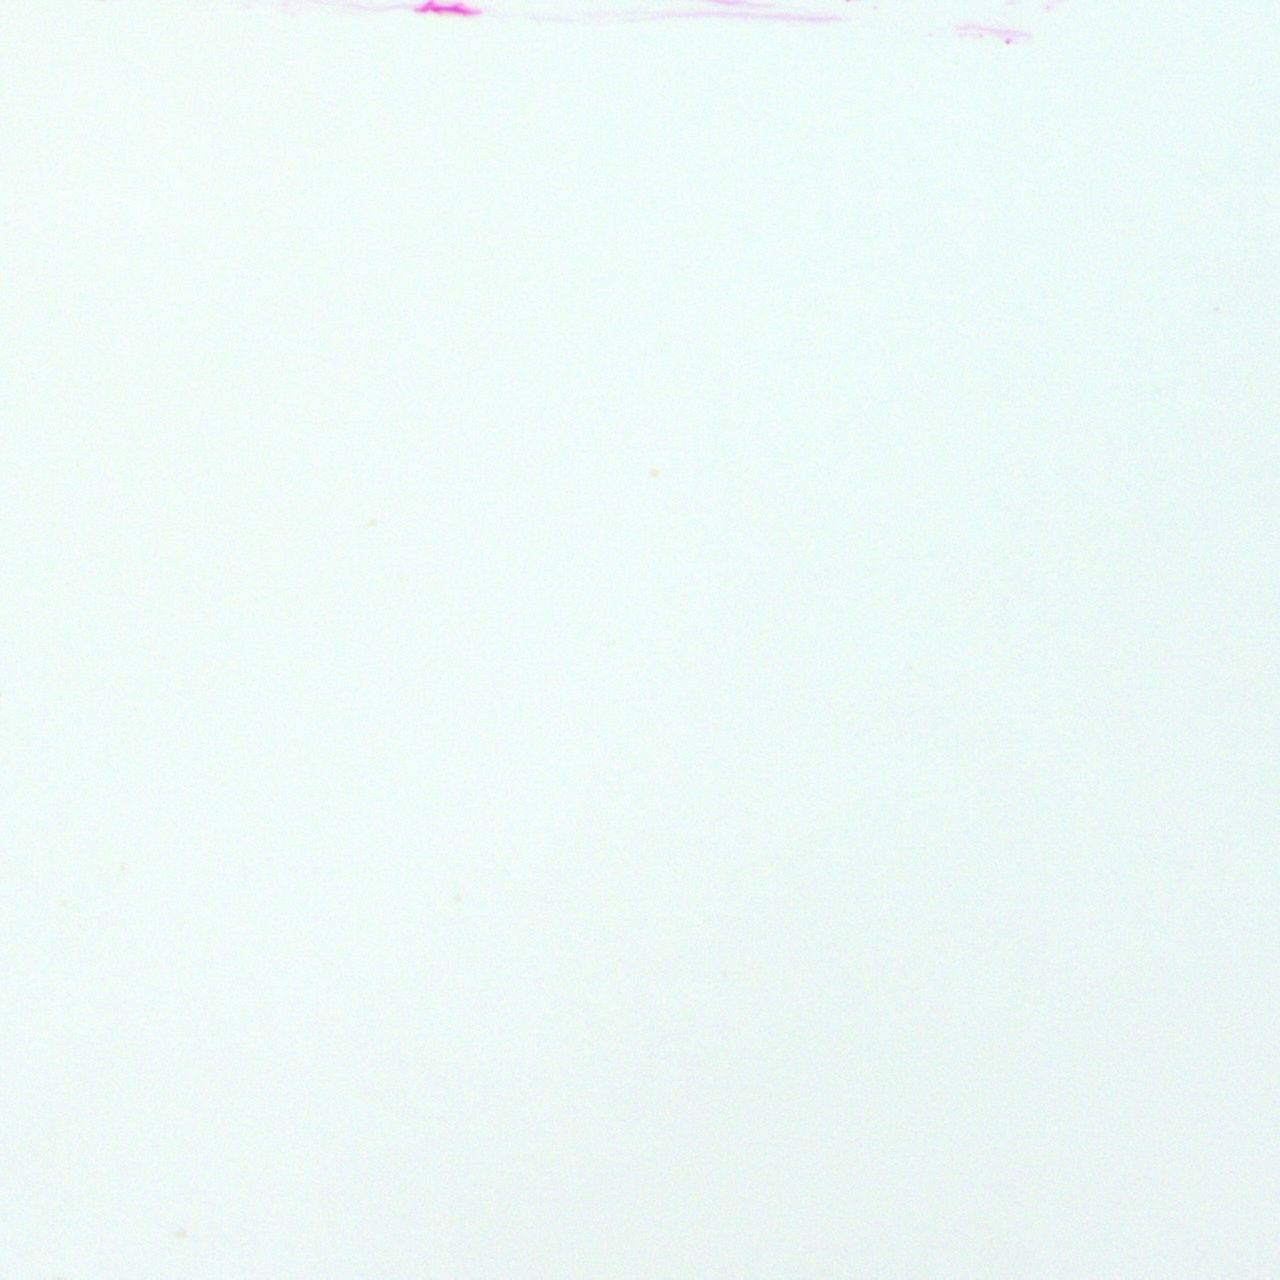nucleus-FG: (416, 4, 481, 18)
